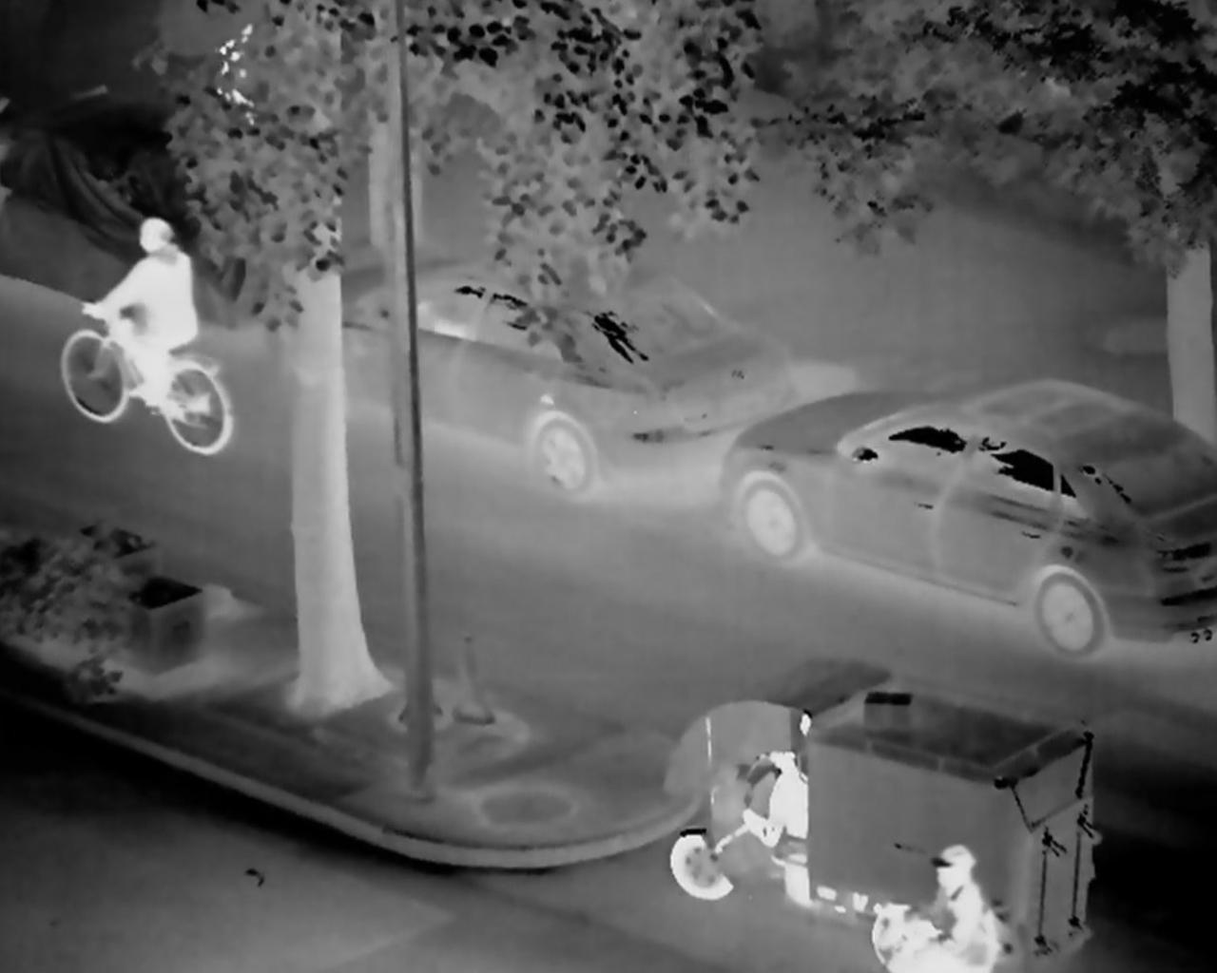person: (68, 213, 205, 429), (874, 843, 1019, 973), (743, 743, 808, 859)
